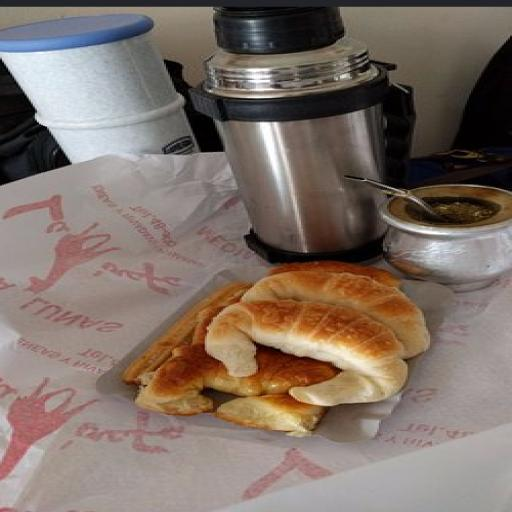bolleria: (205, 300, 407, 406), (242, 272, 430, 358)
mate: (379, 185, 511, 291)
termo: (191, 7, 393, 262)
